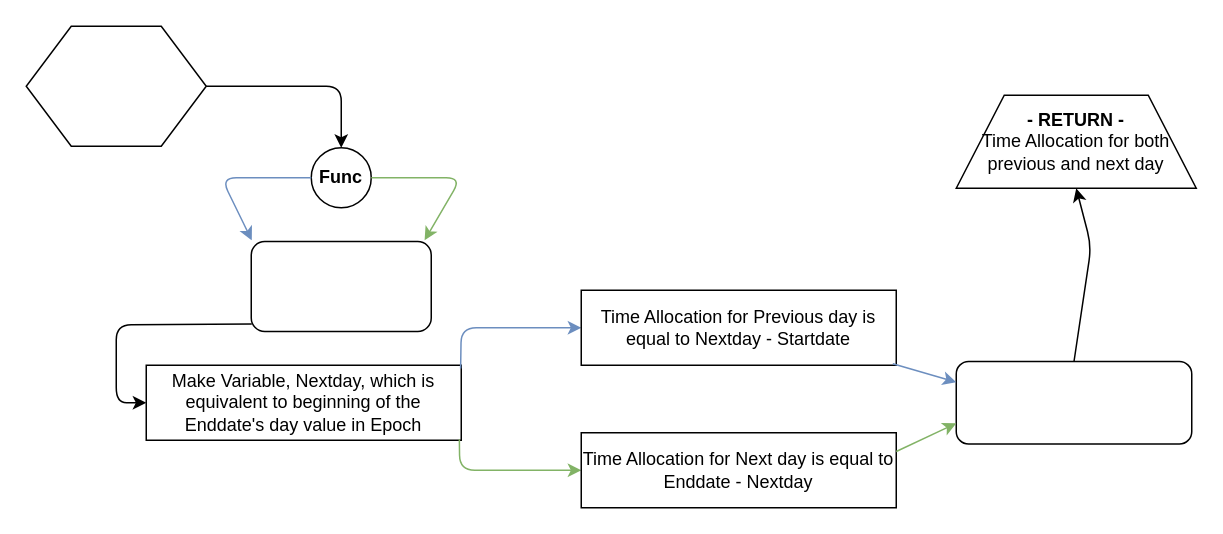
Image size: 1223x534. Some labels were removed from this diagram. The shapes that lost their labels are listed below. From the top down, each one's box as (x1, y1, x2, y2) in pixels, then its label:
(25, 25, 206, 146): - INPUT - File Line w/Subject
(250, 240, 431, 332): Startdate and Enddate are equal to the Epoch time since their date
(955, 360, 1192, 444): Combine into a Dictionary Value
